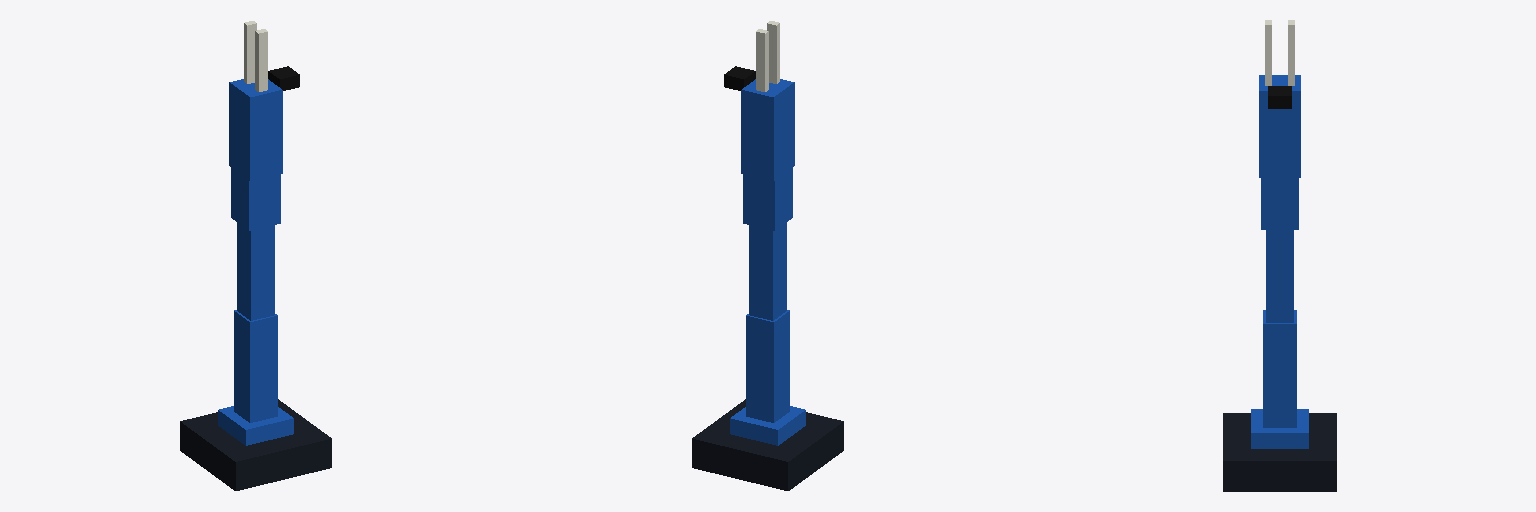
robot.urdf — provisional_arm:
<?xml version="1.0" ?>
<!-- =================================================================================== -->
<!-- |    This document was autogenerated by xacro from ros2_ws/src/arm_simulation/urdf/provisional_arm.urdf.xacro | -->
<!-- |    EDITING THIS FILE BY HAND IS NOT RECOMMENDED                                 | -->
<!-- =================================================================================== -->
<!-- Final user axis distances, 2026-10-29. Collision/visual shapes and masses are
approximations. The pictured linkage is represented by two mirrored hinged jaws;
its exact four-bar dimensions and servo linkage remain unmeasured. -->
<robot name="provisional_arm">
  <link name="world"/>
  <link name="base_link">
    <inertial>
      <origin xyz="0 0 0.0175"/>
      <mass value="1.0"/>
      <inertia ixx="0.0013020833333333333" ixy="0" ixz="0" iyy="0.0013020833333333333" iyz="0" izz="0.0024"/>
    </inertial>
    <visual>
      <origin xyz="0 0 0.0175"/>
      <geometry>
        <box size="0.12 0.12 0.035"/>
      </geometry>
      <material name="base_link_colour">
        <color rgba=".12 .14 .18 1"/>
      </material>
    </visual>
    <collision>
      <origin xyz="0 0 0.0175"/>
      <geometry>
        <box size="0.12 0.12 0.035"/>
      </geometry>
    </collision>
  </link>
  <joint name="world_fixed" type="fixed">
    <parent link="world"/>
    <child link="base_link"/>
    <origin xyz="0 0 0"/>
  </joint>
  <link name="base_rotor">
    <inertial>
      <origin xyz="0 0 0.0095"/>
      <mass value="0.2"/>
      <inertia ixx="6.601666666666667e-05" ixy="0" ixz="0" iyy="6.601666666666667e-05" iyz="0" izz="0.00012"/>
    </inertial>
    <visual>
      <origin xyz="0 0 0.0095"/>
      <geometry>
        <box size="0.06 0.06 0.019"/>
      </geometry>
      <material name="base_rotor_colour">
        <color rgba=".15 .4 .75 1"/>
      </material>
    </visual>
    <collision>
      <origin xyz="0 0 0.0095"/>
      <geometry>
        <box size="0.06 0.06 0.019"/>
      </geometry>
    </collision>
  </link>
  <joint name="sim_joint_1" type="revolute">
    <parent link="base_link"/>
    <child link="base_rotor"/>
    <origin xyz="0 0 0.035"/>
    <axis xyz="0 0 1"/>
    <limit effort="20" lower="-2.8" upper="2.8" velocity="0.6"/>
    <dynamics damping="0.1" friction="0.01"/>
  </joint>
  <link name="upper_arm">
    <inertial>
      <origin xyz="0 0 0.06"/>
      <mass value="0.3"/>
      <inertia ixx="0.00039062499999999997" ixy="0" ixz="0" iyy="0.00039062499999999997" iyz="0" izz="6.125000000000001e-05"/>
    </inertial>
    <visual>
      <origin xyz="0 0 0.06"/>
      <geometry>
        <box size="0.035 0.035 0.12"/>
      </geometry>
      <material name="upper_arm_colour">
        <color rgba=".15 .4 .75 1"/>
      </material>
    </visual>
    <collision>
      <origin xyz="0 0 0.06"/>
      <geometry>
        <box size="0.035 0.035 0.12"/>
      </geometry>
    </collision>
  </link>
  <joint name="sim_joint_2" type="revolute">
    <parent link="base_rotor"/>
    <child link="upper_arm"/>
    <origin xyz="0 0 0.019"/>
    <axis xyz="0 1 0"/>
    <limit effort="20" lower="-1.4" upper="1.4" velocity="0.6"/>
    <dynamics damping="0.1" friction="0.01"/>
  </joint>
  <link name="forearm">
    <inertial>
      <origin xyz="0 0 0.055"/>
      <mass value="0.25"/>
      <inertia ixx="0.0002708333333333333" ixy="0" ixz="0" iyy="0.0002708333333333333" iyz="0" izz="3.75e-05"/>
    </inertial>
    <visual>
      <origin xyz="0 0 0.055"/>
      <geometry>
        <box size="0.03 0.03 0.11"/>
      </geometry>
      <material name="forearm_colour">
        <color rgba=".15 .4 .75 1"/>
      </material>
    </visual>
    <collision>
      <origin xyz="0 0 0.055"/>
      <geometry>
        <box size="0.03 0.03 0.11"/>
      </geometry>
    </collision>
  </link>
  <joint name="sim_joint_3" type="revolute">
    <parent link="upper_arm"/>
    <child link="forearm"/>
    <origin xyz="0 0 0.12"/>
    <axis xyz="0 1 0"/>
    <limit effort="20" lower="-2.0" upper="2.0" velocity="0.6"/>
    <dynamics damping="0.1" friction="0.01"/>
  </joint>
  <link name="wrist_pitch">
    <inertial>
      <origin xyz="0 0 0.03"/>
      <mass value="0.08"/>
      <inertia ixx="3.4666666666666665e-05" ixy="0" ixz="0" iyy="3.4666666666666665e-05" iyz="0" izz="2.1333333333333338e-05"/>
    </inertial>
    <visual>
      <origin xyz="0 0 0.03"/>
      <geometry>
        <box size="0.04 0.04 0.06"/>
      </geometry>
      <material name="wrist_pitch_colour">
        <color rgba=".15 .4 .75 1"/>
      </material>
    </visual>
    <collision>
      <origin xyz="0 0 0.03"/>
      <geometry>
        <box size="0.04 0.04 0.06"/>
      </geometry>
    </collision>
  </link>
  <joint name="sim_joint_4" type="revolute">
    <parent link="forearm"/>
    <child link="wrist_pitch"/>
    <origin xyz="0 0 0.11"/>
    <axis xyz="0 1 0"/>
    <limit effort="20" lower="-1.5" upper="1.5" velocity="0.6"/>
    <dynamics damping="0.1" friction="0.01"/>
  </joint>
  <link name="gripper_palm">
    <inertial>
      <origin xyz="0 0 0.05"/>
      <mass value="0.1"/>
      <inertia ixx="0.00010020833333333335" ixy="0" ixz="0" iyy="9.666666666666668e-05" iyz="0" izz="3.020833333333333e-05"/>
    </inertial>
    <visual>
      <origin xyz="0 0 0.05"/>
      <geometry>
        <box size="0.04 0.045 0.1"/>
      </geometry>
      <material name="gripper_palm_colour">
        <color rgba=".15 .4 .75 1"/>
      </material>
    </visual>
    <collision>
      <origin xyz="0 0 0.05"/>
      <geometry>
        <box size="0.04 0.045 0.1"/>
      </geometry>
    </collision>
  </link>
  <joint name="sim_joint_5" type="revolute">
    <parent link="wrist_pitch"/>
    <child link="gripper_palm"/>
    <origin xyz="0 0 0.06"/>
    <axis xyz="0 0 1"/>
    <limit effort="20" lower="-2.8" upper="2.8" velocity="0.6"/>
    <dynamics damping="0.1" friction="0.01"/>
  </joint>
  <link name="left_finger">
    <inertial>
      <origin xyz="0 0 0.035"/>
      <mass value="0.025"/>
      <inertia ixx="1.0341666666666668e-05" ixy="0" ixz="0" iyy="1.0508333333333336e-05" iyz="0" izz="4.333333333333334e-07"/>
    </inertial>
    <visual>
      <origin xyz="0 0 0.035"/>
      <geometry>
        <box size="0.012 0.008 0.07"/>
      </geometry>
      <material name="left_finger_colour">
        <color rgba=".9 .9 .85 1"/>
      </material>
    </visual>
    <collision>
      <origin xyz="0 0 0.035"/>
      <geometry>
        <box size="0.012 0.008 0.07"/>
      </geometry>
    </collision>
  </link>
  <joint name="sim_finger_joint" type="revolute">
    <parent link="gripper_palm"/>
    <child link="left_finger"/>
    <origin xyz="0 .012 0.1"/>
    <axis xyz="-1 0 0"/>
    <limit effort="20" lower="0.0" upper="0.4" velocity="0.6"/>
    <dynamics damping="0.1" friction="0.01"/>
  </joint>
  <link name="right_finger">
    <inertial>
      <origin xyz="0 0 0.035"/>
      <mass value="0.025"/>
      <inertia ixx="1.0341666666666668e-05" ixy="0" ixz="0" iyy="1.0508333333333336e-05" iyz="0" izz="4.333333333333334e-07"/>
    </inertial>
    <visual>
      <origin xyz="0 0 0.035"/>
      <geometry>
        <box size="0.012 0.008 0.07"/>
      </geometry>
      <material name="right_finger_colour">
        <color rgba=".9 .9 .85 1"/>
      </material>
    </visual>
    <collision>
      <origin xyz="0 0 0.035"/>
      <geometry>
        <box size="0.012 0.008 0.07"/>
      </geometry>
    </collision>
  </link>
  <joint name="sim_finger_mimic" type="revolute">
    <parent link="gripper_palm"/>
    <child link="right_finger"/>
    <origin xyz="0 -.012 0.1"/>
    <axis xyz="1 0 0"/>
    <limit effort="20" lower="0.0" upper="0.4" velocity="0.6"/>
    <dynamics damping="0.1" friction="0.01"/>
    <mimic joint="sim_finger_joint" multiplier="1" offset="0"/>
  </joint>
  <link name="gripper_motor_frame"/>
  <joint name="gripper_motor_fixed" type="fixed">
    <parent link="gripper_palm"/>
    <child link="gripper_motor_frame"/>
    <origin xyz="0 0 0.1"/>
  </joint>
  <link name="tool0"/>
  <joint name="tool_fixed" type="fixed">
    <parent link="gripper_palm"/>
    <child link="tool0"/>
    <origin xyz="0 0 0.17"/>
  </joint>
  <link name="camera_link">
    <inertial>
      <origin xyz="0.035 0 0"/>
      <mass value="0.015"/>
      <inertia ixx="1.0625e-06" ixy="0" ixz="0" iyy="1.0625e-06" iyz="0" izz="1.5625e-06"/>
    </inertial>
    <visual>
      <origin xyz="0.035 0 0"/>
      <geometry>
        <box size="0.025 0.025 0.015"/>
      </geometry>
      <material name="camera_link_colour">
        <color rgba=".1 .1 .1 1"/>
      </material>
    </visual>
    <collision>
      <origin xyz="0.035 0 0"/>
      <geometry>
        <box size="0.025 0.025 0.015"/>
      </geometry>
    </collision>
  </link>
  <joint name="camera_fixed" type="fixed">
    <parent link="gripper_palm"/>
    <child link="camera_link"/>
    <origin xyz="0 0 0.1"/>
  </joint>
  <ros2_control name="SimulationOnly" type="system">
    <hardware>
      <plugin>mock_components/GenericSystem</plugin>
    </hardware>
    <joint name="sim_joint_1">
      <command_interface name="position"/>
      <state_interface name="position">
        <param name="initial_value">0</param>
      </state_interface>
      <state_interface name="velocity"/>
    </joint>
    <joint name="sim_joint_2">
      <command_interface name="position"/>
      <state_interface name="position">
        <param name="initial_value">0</param>
      </state_interface>
      <state_interface name="velocity"/>
    </joint>
    <joint name="sim_joint_3">
      <command_interface name="position"/>
      <state_interface name="position">
        <param name="initial_value">0</param>
      </state_interface>
      <state_interface name="velocity"/>
    </joint>
    <joint name="sim_joint_4">
      <command_interface name="position"/>
      <state_interface name="position">
        <param name="initial_value">0</param>
      </state_interface>
      <state_interface name="velocity"/>
    </joint>
    <joint name="sim_joint_5">
      <command_interface name="position"/>
      <state_interface name="position">
        <param name="initial_value">0</param>
      </state_interface>
      <state_interface name="velocity"/>
    </joint>
    <joint name="sim_finger_joint">
      <command_interface name="position"/>
      <state_interface name="position">
        <param name="initial_value">0</param>
      </state_interface>
      <state_interface name="velocity"/>
    </joint>
    <joint name="sim_finger_mimic">
      <state_interface name="position"/>
      <state_interface name="velocity"/>
    </joint>
  </ros2_control>
</robot>

--- What the picture shows (computed from the rendered views, not written in the file) ---
3 views of the same robot in one strip: view 1: azimuth 30°, elevation 25°; view 2: azimuth 150°, elevation 25°; view 3: azimuth 270°, elevation 25° (orthographic).
Model provisional_arm with 12 links and 11 joints (7 revolute, 4 fixed), rooted at world, posed all joints at 0.
Visible links, largest first — view 1: base_link, gripper_palm, upper_arm, forearm, wrist_pitch, base_rotor, right_finger, left_finger, camera_link; view 2: base_link, gripper_palm, upper_arm, forearm, wrist_pitch, base_rotor, left_finger, right_finger, camera_link; view 3: base_link, upper_arm, gripper_palm, forearm, wrist_pitch, base_rotor, camera_link.
Boxes of the visible links, left/top/right/bottom form: base_link: left=180, top=399, right=331, bottom=490; gripper_palm: left=229, top=79, right=282, bottom=181; upper_arm: left=234, top=310, right=277, bottom=422; forearm: left=237, top=223, right=274, bottom=320; wrist_pitch: left=231, top=168, right=280, bottom=230; base_rotor: left=218, top=406, right=293, bottom=445; right_finger: left=255, top=29, right=267, bottom=91; left_finger: left=244, top=21, right=256, bottom=83; camera_link: left=268, top=66, right=299, bottom=90; base_link: left=692, top=399, right=843, bottom=490; gripper_palm: left=741, top=79, right=794, bottom=181; upper_arm: left=746, top=310, right=789, bottom=422; forearm: left=749, top=223, right=786, bottom=320; wrist_pitch: left=743, top=168, right=792, bottom=230; base_rotor: left=730, top=406, right=805, bottom=445; left_finger: left=756, top=29, right=768, bottom=91; right_finger: left=767, top=21, right=779, bottom=83; camera_link: left=724, top=66, right=755, bottom=90; base_link: left=1223, top=413, right=1336, bottom=491; upper_arm: left=1263, top=310, right=1296, bottom=427; gripper_palm: left=1259, top=75, right=1300, bottom=177; forearm: left=1266, top=230, right=1293, bottom=322; wrist_pitch: left=1261, top=178, right=1298, bottom=229; base_rotor: left=1251, top=409, right=1308, bottom=448; camera_link: left=1268, top=86, right=1291, bottom=108.
Bounding box of the posed robot: 0.12 × 0.12 × 0.514 m (x, y, z).
Geometry: primitives only (box / cylinder / sphere), no mesh files.
